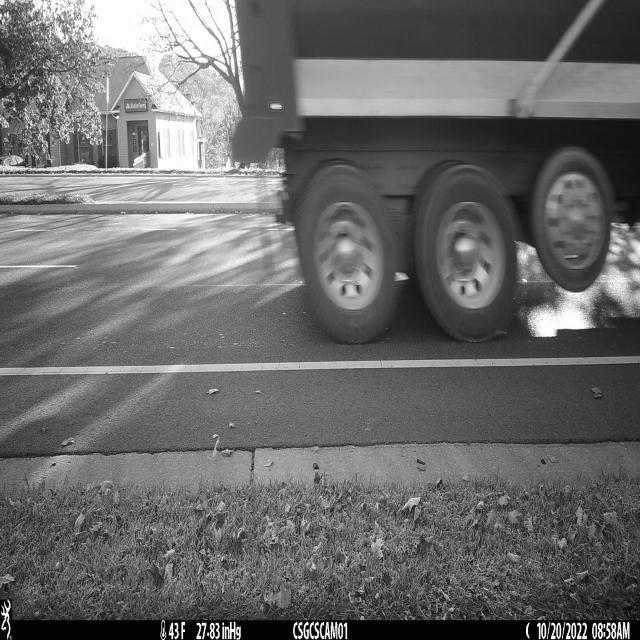Truck- Multi-Axle: (232, 0, 640, 346)
